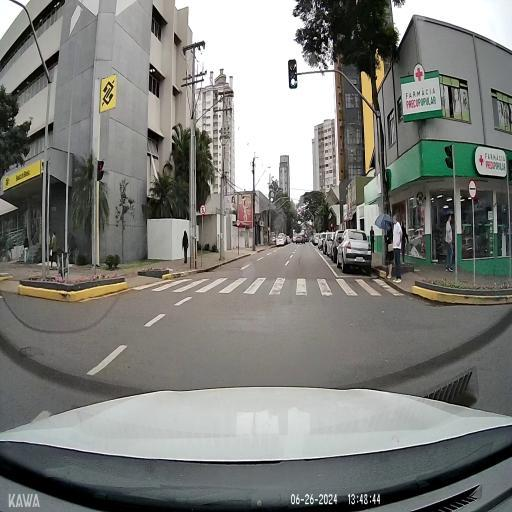R-24a: (468, 178, 476, 200)
R-6a: (200, 204, 206, 214)
